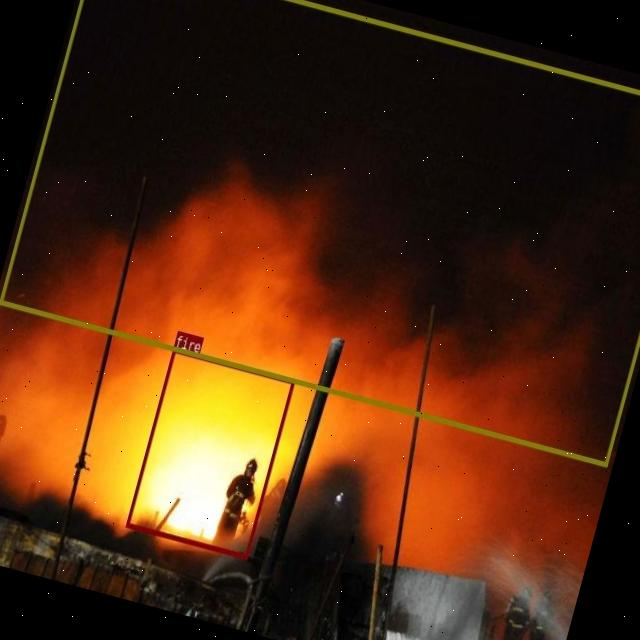fire: (125, 346, 294, 558)
smoke: (0, 0, 640, 465)
